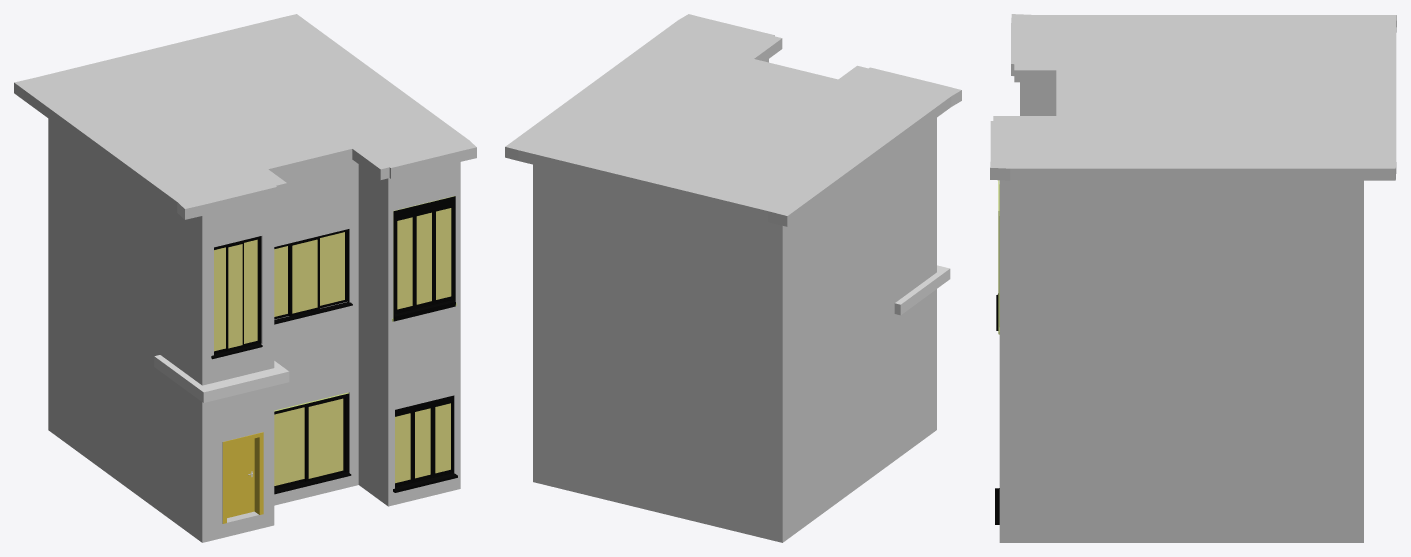
The model's file is One Storey House.fbx.
3 renders of one model, left to right at view 1: azimuth 30°, elevation 25°; view 2: azimuth 150°, elevation 25°; view 3: azimuth 270°, elevation 25°, orthographic. The views are drawn at different scales.
Parts seen in each view (by area): view 1: Cube, Window Panel.010, Cube.001, Window Panel.009, Window Panel.007, Panel, Window Panel.008, Window Panel.012, Window, Window Panel.001, Window Panel, Window Panel.002 (+11 smaller); view 2: Cube, Cube.001; view 3: Cube.
Boxes of the visible parts, box(x1,y1,x2,y2) form: Cube: box(14, 14, 476, 542); Window Panel.010: box(305, 397, 345, 481); Cube.001: box(154, 355, 289, 402); Window Panel.009: box(274, 407, 304, 488); Window Panel.007: box(289, 238, 319, 315); Panel: box(227, 438, 254, 517); Window Panel.008: box(320, 231, 346, 307); Window Panel.012: box(226, 242, 243, 350); Window: box(392, 196, 456, 321); Window Panel.001: box(415, 209, 434, 307); Window Panel: box(396, 214, 414, 312); Window Panel.002: box(434, 205, 452, 303); Cube: box(505, 14, 961, 542); Cube.001: box(894, 265, 950, 315); Cube: box(990, 14, 1396, 542).
Size of what is drawn, in the model's own units: 2675 by 3077 by 2972.
